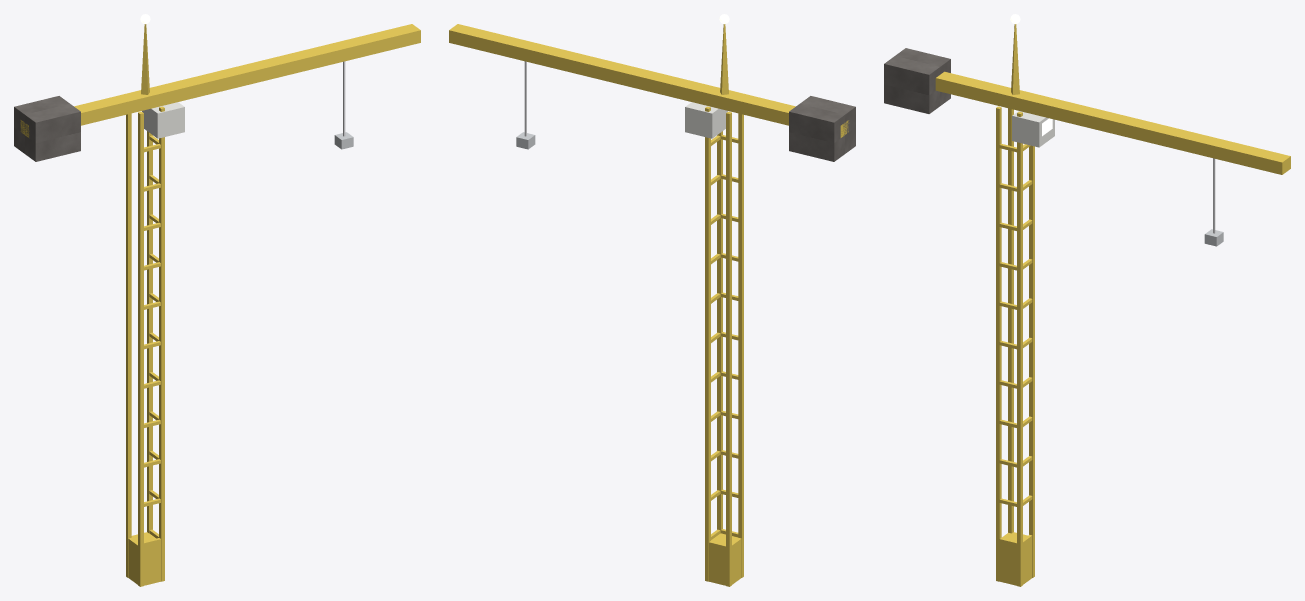
The model's file is tower_crane.glb.
The picture shows the model from 3 angles, left to right: view 1: azimuth 30°, elevation 25°; view 2: azimuth 150°, elevation 25°; view 3: azimuth 330°, elevation 25°; orthographic projection.
Visible parts, largest first — view 1: tower_crane__crane_yellow, tower_crane__roof, tower_crane__white; view 2: tower_crane__crane_yellow, tower_crane__roof, tower_crane__white; view 3: tower_crane__crane_yellow, tower_crane__roof, tower_crane__white.
Part boxes in pixels (left/top/right/bottom): tower_crane__crane_yellow: left=20, top=24, right=420, bottom=586; tower_crane__roof: left=14, top=96, right=80, bottom=161; tower_crane__white: left=142, top=102, right=184, bottom=138; tower_crane__crane_yellow: left=449, top=24, right=848, bottom=586; tower_crane__roof: left=789, top=96, right=855, bottom=161; tower_crane__white: left=685, top=102, right=727, bottom=138; tower_crane__crane_yellow: left=935, top=24, right=1290, bottom=586; tower_crane__roof: left=884, top=48, right=950, bottom=113; tower_crane__white: left=1012, top=111, right=1054, bottom=147.
Bounding box in the file's own units: 2.6 × 3.58 × 0.25.
Materials: 7 (1 with a texture image).
